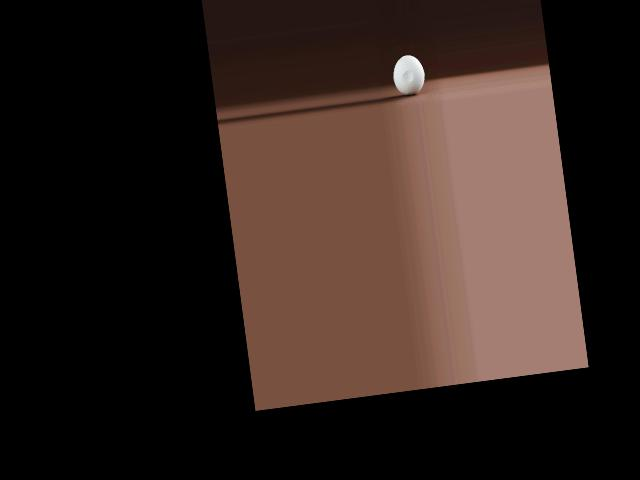egg: (390, 53, 426, 97)
